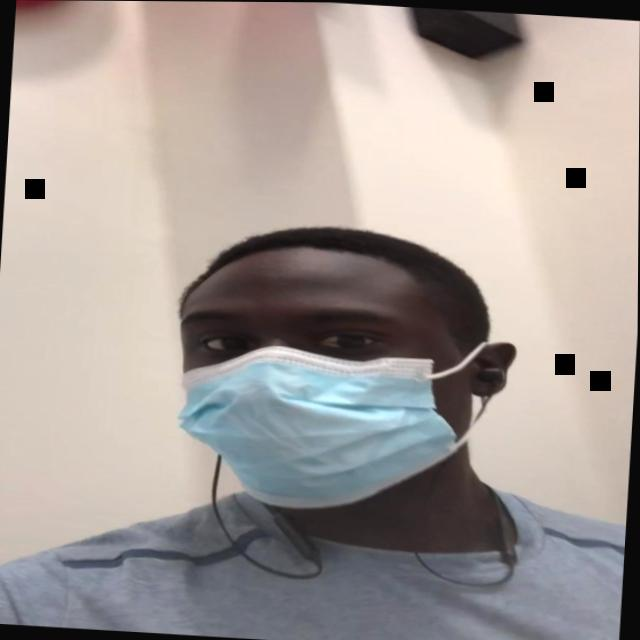Mask: (166, 257, 489, 520)
